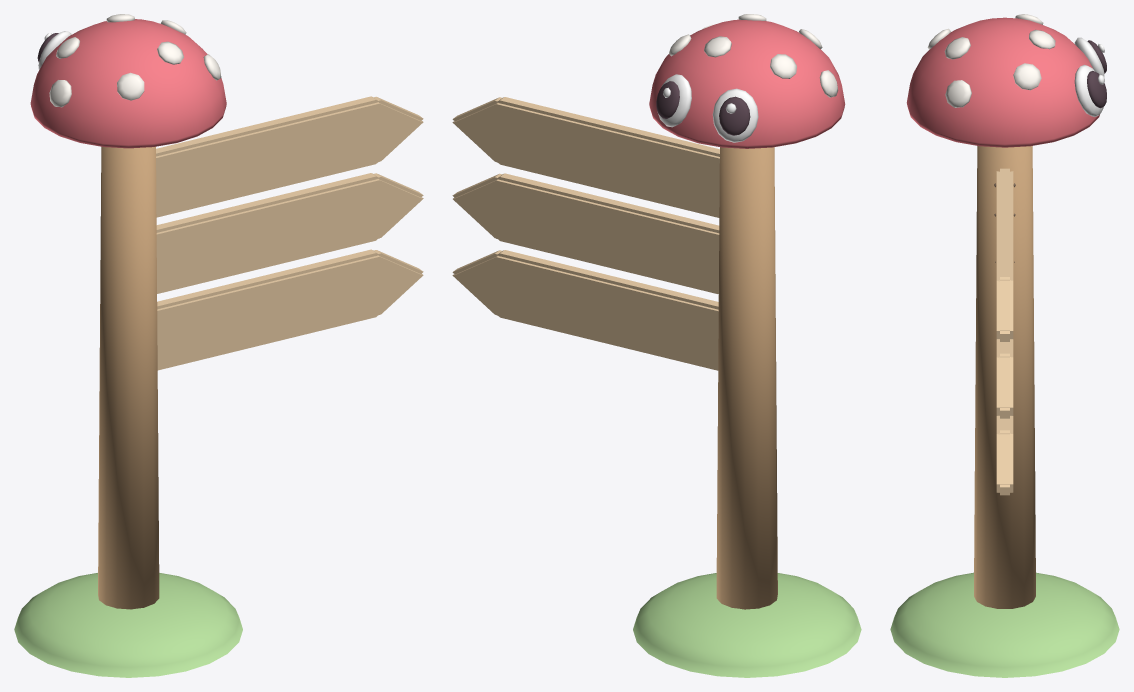
The model's file is signpost.glb.
The picture shows the model from 3 angles, left to right: view 1: azimuth 30°, elevation 25°; view 2: azimuth 150°, elevation 25°; view 3: azimuth 270°, elevation 25°; orthographic projection.
Visible parts, largest first — view 1: Post, Board0, Board1, Board2; view 2: Post, Board0, Board1, Board2; view 3: Post, Board0, Board2, Board1.
Boxes of the visible parts, x1,y1,x2,y2 form: Post: [14, 14, 242, 677]; Board0: [156, 96, 423, 217]; Board1: [156, 173, 423, 293]; Board2: [157, 249, 423, 370]; Post: [633, 14, 861, 677]; Board0: [452, 97, 719, 217]; Board1: [452, 173, 719, 294]; Board2: [452, 250, 718, 370]; Post: [890, 14, 1119, 677]; Board0: [994, 168, 1015, 341]; Board2: [996, 416, 1013, 495]; Board1: [995, 261, 1014, 418].
Size of the model in its own units: 1.66 by 2.43 by 0.84.
